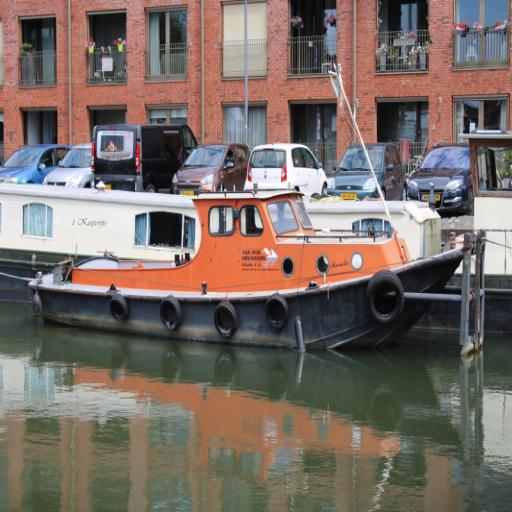tugboat: (27, 176, 491, 361)
